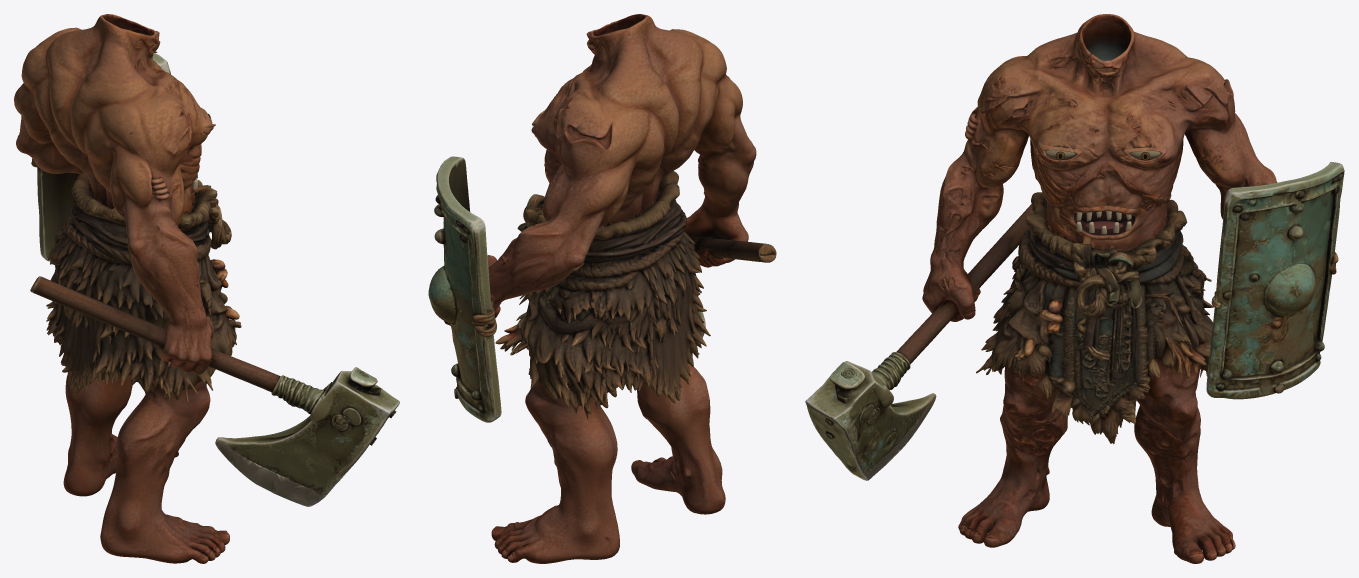
Rendered from xingtian.glb.
3 renders of one model, left to right at view 1: azimuth 30°, elevation 25°; view 2: azimuth 150°, elevation 25°; view 3: azimuth 270°, elevation 25°, orthographic. The views are drawn at different scales.
Visible parts, largest first — view 1: Xingtian_original_body_axe_shield; view 2: Xingtian_original_body_axe_shield; view 3: Xingtian_original_body_axe_shield, Abdominal_lips_blended_into_skin, Deep_mouth_back.
Boxes of the visible parts, left/top/right/bottom form: Xingtian_original_body_axe_shield: left=14, top=14, right=399, bottom=563; Xingtian_original_body_axe_shield: left=428, top=14, right=776, bottom=563; Xingtian_original_body_axe_shield: left=805, top=14, right=1344, bottom=563; Abdominal_lips_blended_into_skin: left=1038, top=143, right=1167, bottom=244; Deep_mouth_back: left=1049, top=146, right=1154, bottom=235.
Size of the model in its own units: 0.5387 by 0.9818 by 0.9518.
Materials: 10 (1 with a texture image).
